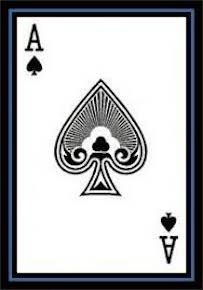AceOfSpades: (7, 10, 194, 281)
